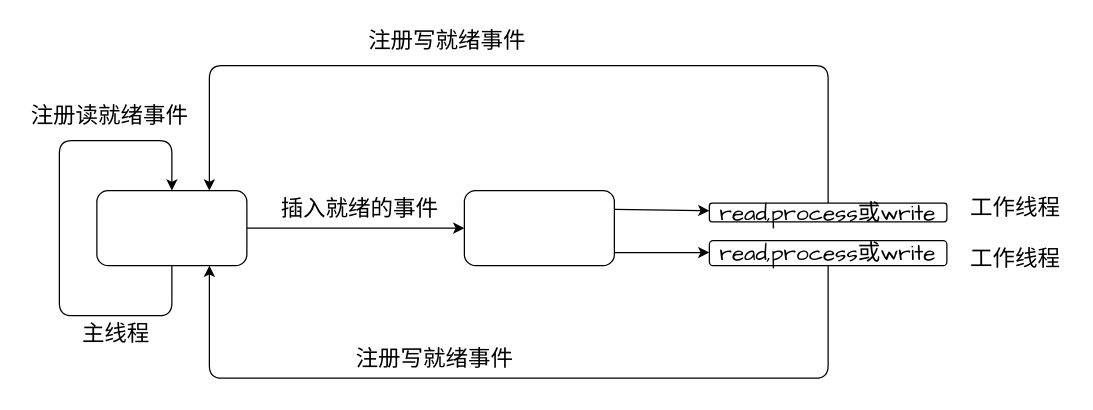
This 1093x410 diagram has some shape labels left out. The centre of each missing label's shape, as x and y in pixels:
epoll_wait: (x=171, y=227)
请求队列: (x=538, y=227)
